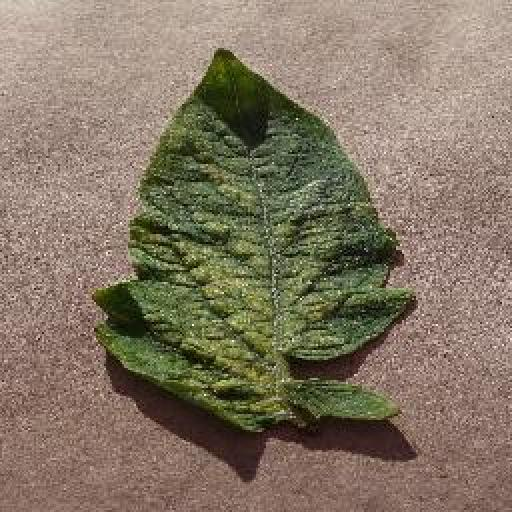Spider Mites: (89, 48, 420, 435)
